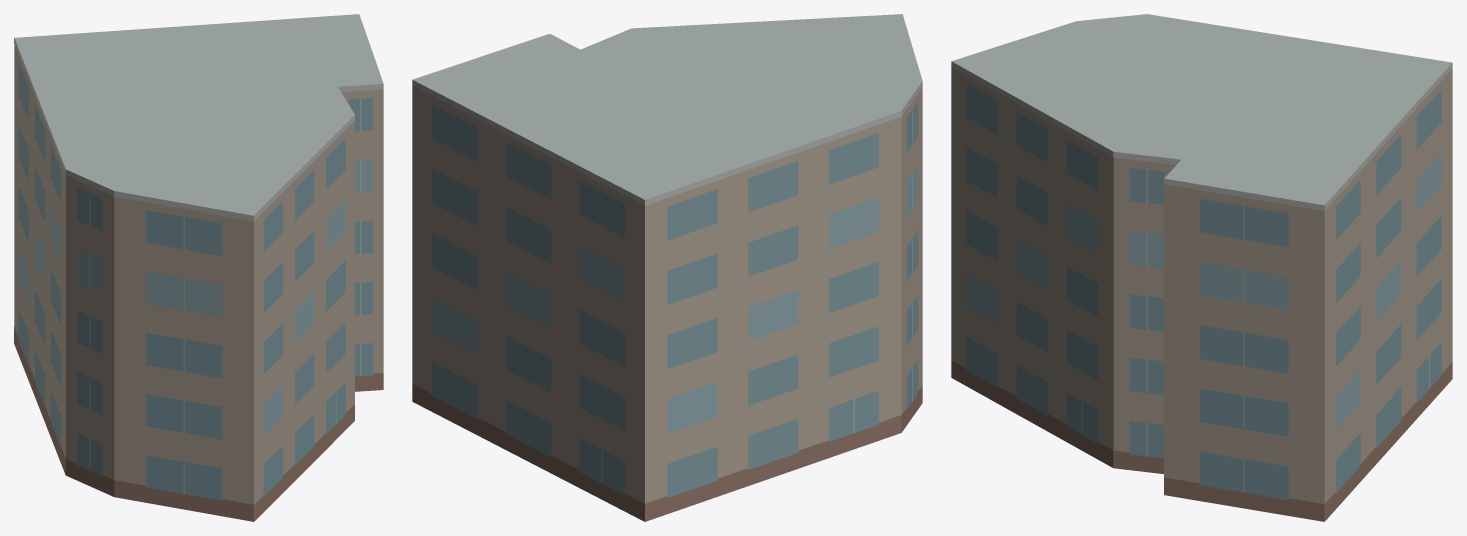
Rendered from survey-upis-32887732.glb.
3 views of the same model, side by side, from view 1: azimuth 30°, elevation 25°; view 2: azimuth 150°, elevation 25°; view 3: azimuth 270°, elevation 25° (orthographic). The views are drawn at different scales.
Parts seen in each view (by area): view 1: survey-upis-32887732.tmp; view 2: survey-upis-32887732.tmp; view 3: survey-upis-32887732.tmp.
Boxes of the visible parts, x1=… form: survey-upis-32887732.tmp: x1=14, y1=14, x2=383, y2=521; survey-upis-32887732.tmp: x1=412, y1=14, x2=922, y2=521; survey-upis-32887732.tmp: x1=951, y1=14, x2=1452, y2=521.
Bounding box in the file's own units: 17.26 × 13.3 × 19.1.
